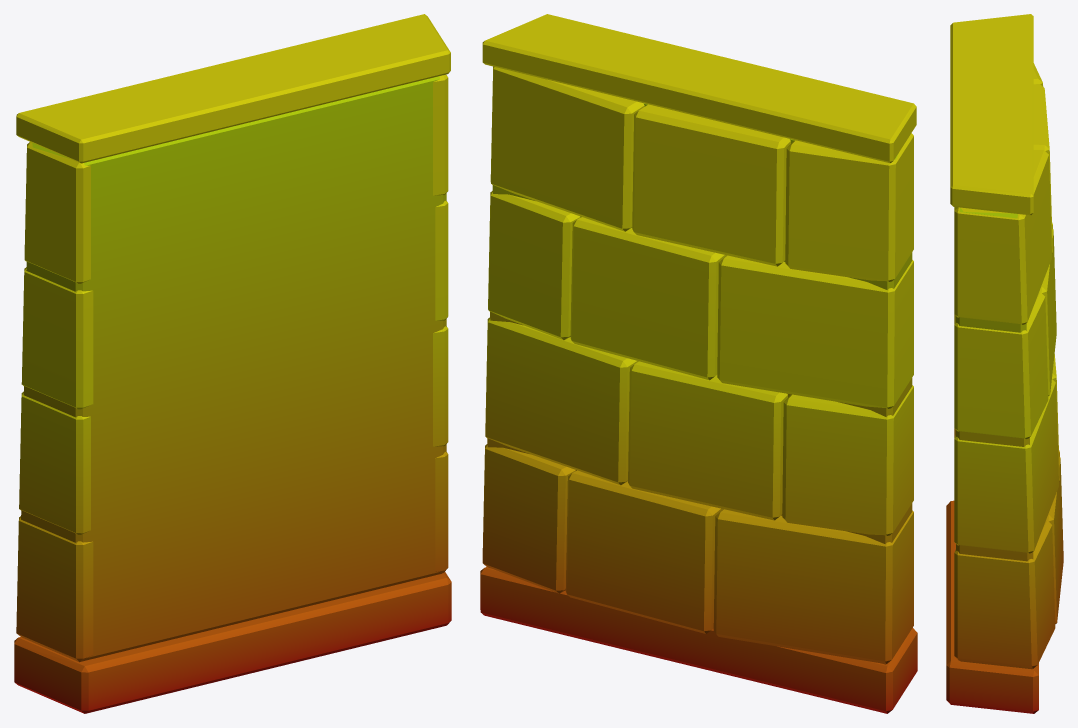
File: wall_arc.glb
3 views of the same model, side by side, from view 1: azimuth 30°, elevation 25°; view 2: azimuth 150°, elevation 25°; view 3: azimuth 270°, elevation 25° (orthographic). The views are drawn at different scales.
Parts seen in each view (by area): view 1: wall_arc; view 2: wall_arc; view 3: wall_arc.
Part boxes in pixels (box(x1,y1,x2,y2)): wall_arc: box(14, 14, 451, 713); wall_arc: box(480, 14, 917, 713); wall_arc: box(946, 14, 1063, 713).
Size of what is drawn, in the model's own units: 2.71 by 3.6 by 0.7366.
